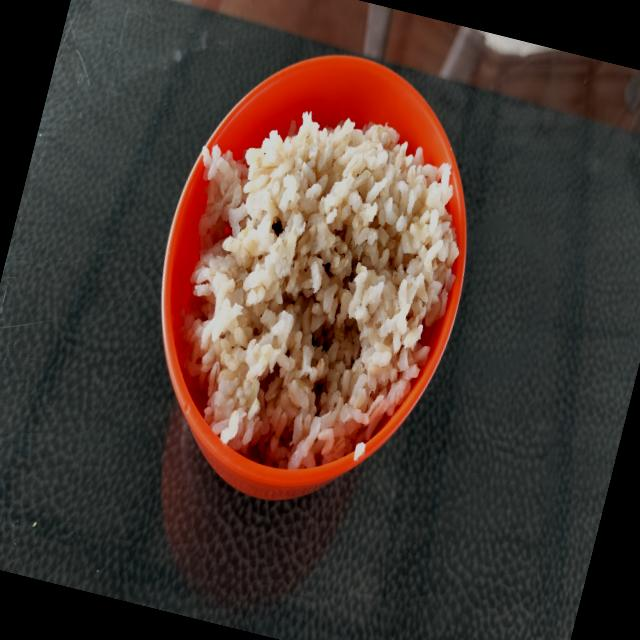brown-rice: (179, 112, 457, 469)
